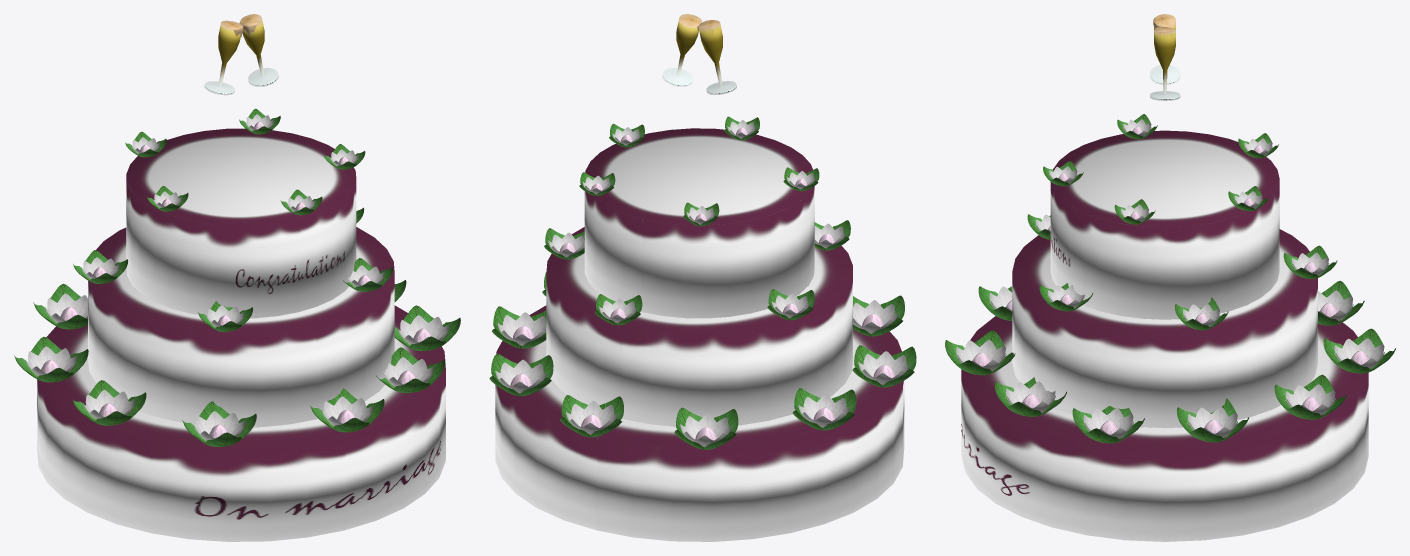
Rendered from WeddingCake1.fbx.
3 renders of one model, left to right at view 1: azimuth 30°, elevation 25°; view 2: azimuth 150°, elevation 25°; view 3: azimuth 270°, elevation 25°, orthographic.
Visible parts, largest first — view 1: Layer_Bot, Layer_Top, Layer_Mid, Flower.001, Flower.011, Flower.002, Flower.005, Flower.003, Flower.004, Flower.009, Flower.010, WineGlass.002 (+8 smaller); view 2: Layer_Bot, Layer_Top, Layer_Mid, Flower.001, Flower.011, Flower.009, Flower.008, Flower.007, Flower.006, Flower.002, Flower.018, Flower.010 (+9 smaller); view 3: Layer_Bot, Layer_Top, Layer_Mid, Flower.007, Flower.008, Flower.003, Flower.005, Flower.006, Flower.004, Flower.009, Flower.018, WineGlass.001 (+8 smaller).
Boxes of the visible parts, x1,y1,x2,y2 form: Layer_Bot: (37,305,445,541); Layer_Top: (126,128,356,318); Layer_Mid: (88,227,394,427); Flower.001: (72,380,146,425); Flower.011: (14,336,88,382); Flower.002: (182,401,256,446); Flower.005: (394,305,460,350); Flower.003: (310,388,384,432); Flower.004: (376,347,445,392); Flower.009: (33,283,87,329); Flower.010: (73,250,127,283); WineGlass.002: (204,23,240,95); Layer_Bot: (495,305,904,541); Layer_Top: (584,128,814,318); Layer_Mid: (546,227,852,426); Flower.001: (852,345,916,387); Flower.011: (792,388,856,430); Flower.009: (674,407,738,449); Flower.008: (560,395,623,437); Flower.007: (489,354,553,395); Flower.006: (492,306,546,348); Flower.002: (853,295,904,336); Flower.018: (595,294,642,325); Flower.010: (767,289,814,320); Layer_Bot: (961,316,1368,541); Layer_Top: (1050,130,1279,319); Layer_Mid: (1012,229,1317,428); Flower.007: (1274,374,1346,419); Flower.008: (1323,328,1395,373); Flower.003: (945,330,1015,375); Flower.005: (1072,405,1144,443); Flower.006: (1177,398,1248,442); Flower.004: (995,377,1066,416); Flower.009: (1318,280,1364,325); Flower.018: (1283,245,1337,278); WineGlass.001: (1150,30,1180,100).
Size of the model in its own units: 423 by 443 by 469.
